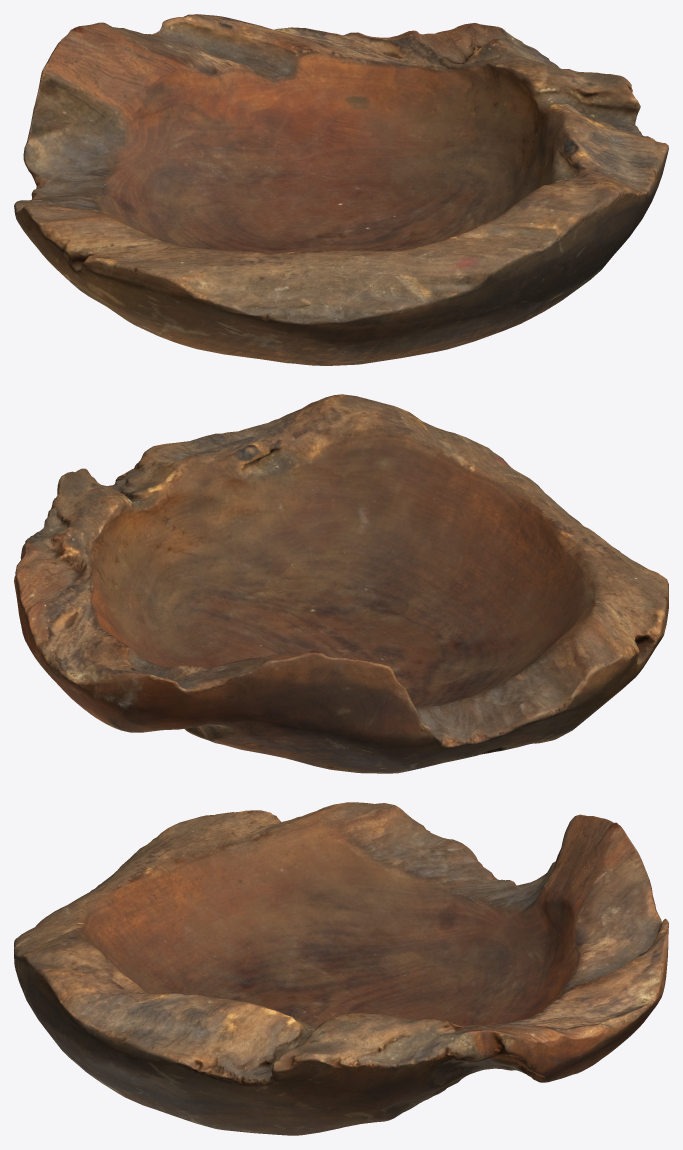
The model's file is wooden_bowl_01_1k.gltf.
The picture shows the model from 3 angles, top to bottom: view 1: azimuth 30°, elevation 25°; view 2: azimuth 150°, elevation 25°; view 3: azimuth 270°, elevation 25°; orthographic projection. The views are drawn at different scales.
Parts seen in each view (by area): view 1: wooden_bowl_01; view 2: wooden_bowl_01; view 3: wooden_bowl_01.
Boxes of the visible parts, bbox=[...] form: wooden_bowl_01: bbox=[14, 14, 668, 365]; wooden_bowl_01: bbox=[14, 394, 668, 773]; wooden_bowl_01: bbox=[14, 802, 668, 1135].
Bounding box in the file's own units: 0.3131 × 0.0937 × 0.3091.
1 material, 1 textured.
